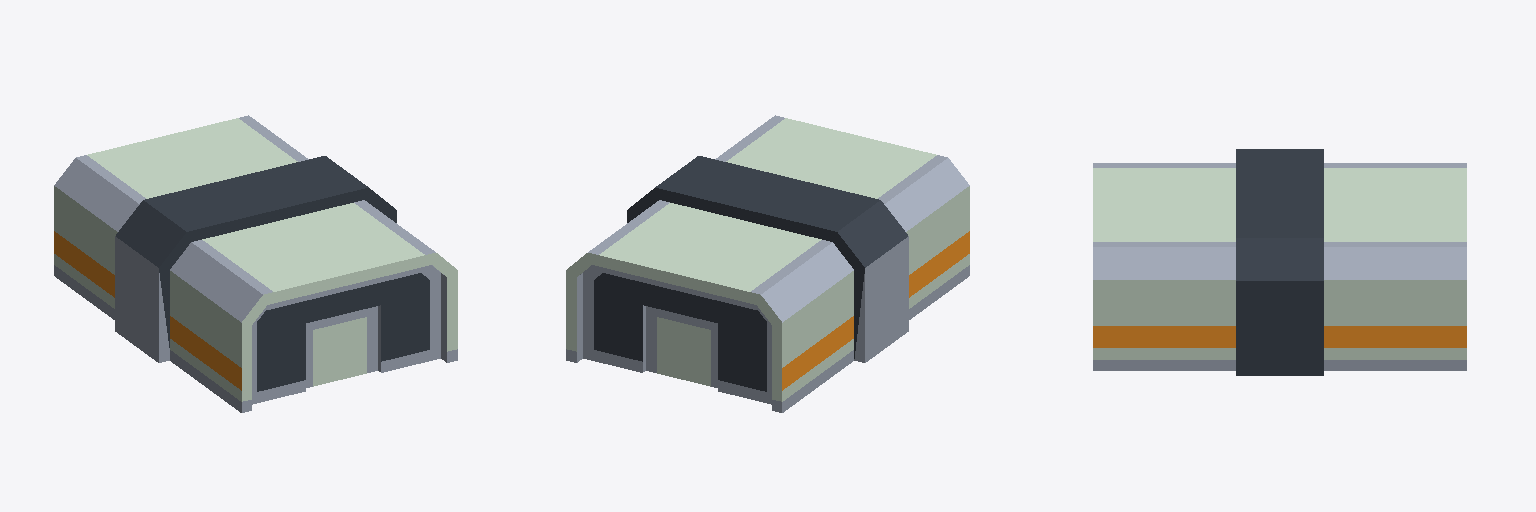
File: hangar_largeB.obj
3 renders of one model, left to right at view 1: azimuth 30°, elevation 25°; view 2: azimuth 150°, elevation 25°; view 3: azimuth 270°, elevation 25°, orthographic.
Visible parts, largest first — view 1: hangar_largeB:hangar_largeB, hangar_largeB:gate; view 2: hangar_largeB:hangar_largeB, hangar_largeB:gate; view 3: hangar_largeB:hangar_largeB.
Part boxes in pixels (x1,y1,x2,y2): hangar_largeB:hangar_largeB: (54, 115, 457, 412); hangar_largeB:gate: (252, 265, 440, 404); hangar_largeB:hangar_largeB: (566, 115, 969, 412); hangar_largeB:gate: (583, 265, 771, 404); hangar_largeB:hangar_largeB: (1093, 149, 1466, 375).
Size of the model in its own units: 2.2 by 1.1 by 3.